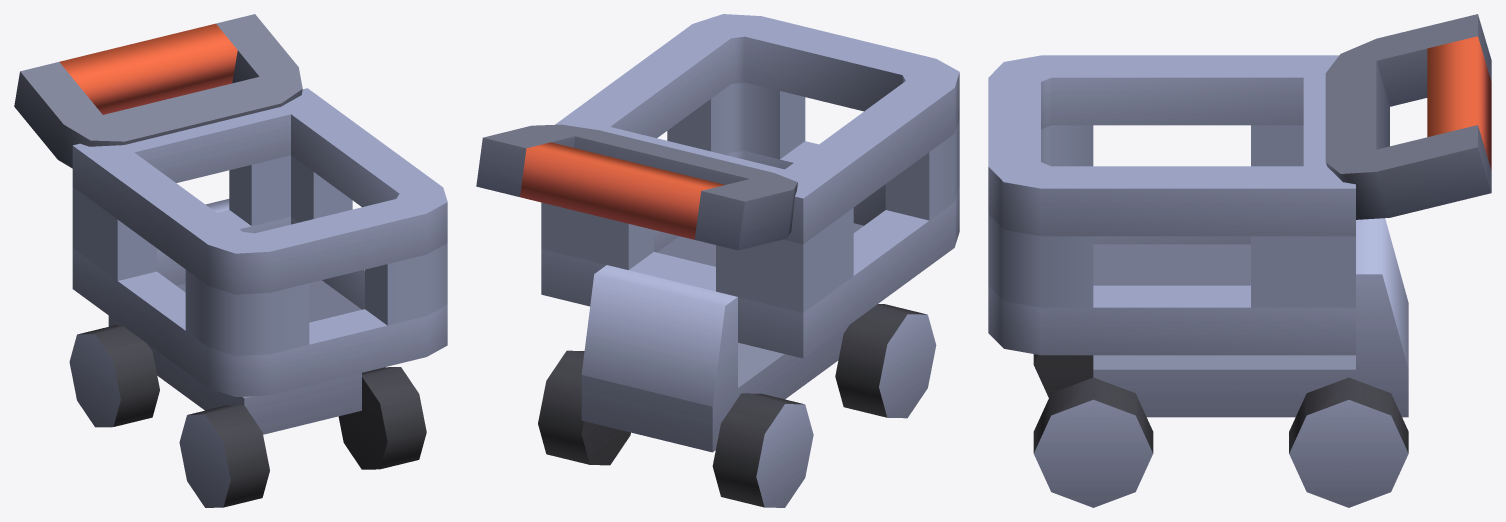
The model's file is shopping-cart.glb.
3 renders of one model, left to right at view 1: azimuth 30°, elevation 25°; view 2: azimuth 150°, elevation 25°; view 3: azimuth 270°, elevation 25°, orthographic. The views are drawn at different scales.
Visible parts, largest first — view 1: shopping-cart; view 2: shopping-cart; view 3: shopping-cart.
Part boxes in pixels (left/top/right/bottom): shopping-cart: left=14, top=14, right=447, bottom=507; shopping-cart: left=476, top=14, right=959, bottom=507; shopping-cart: left=988, top=14, right=1491, bottom=507.
Bounding box in the file's own units: 0.3 × 0.3906 × 0.4789.
Materials: 1 (1 with a texture image).
